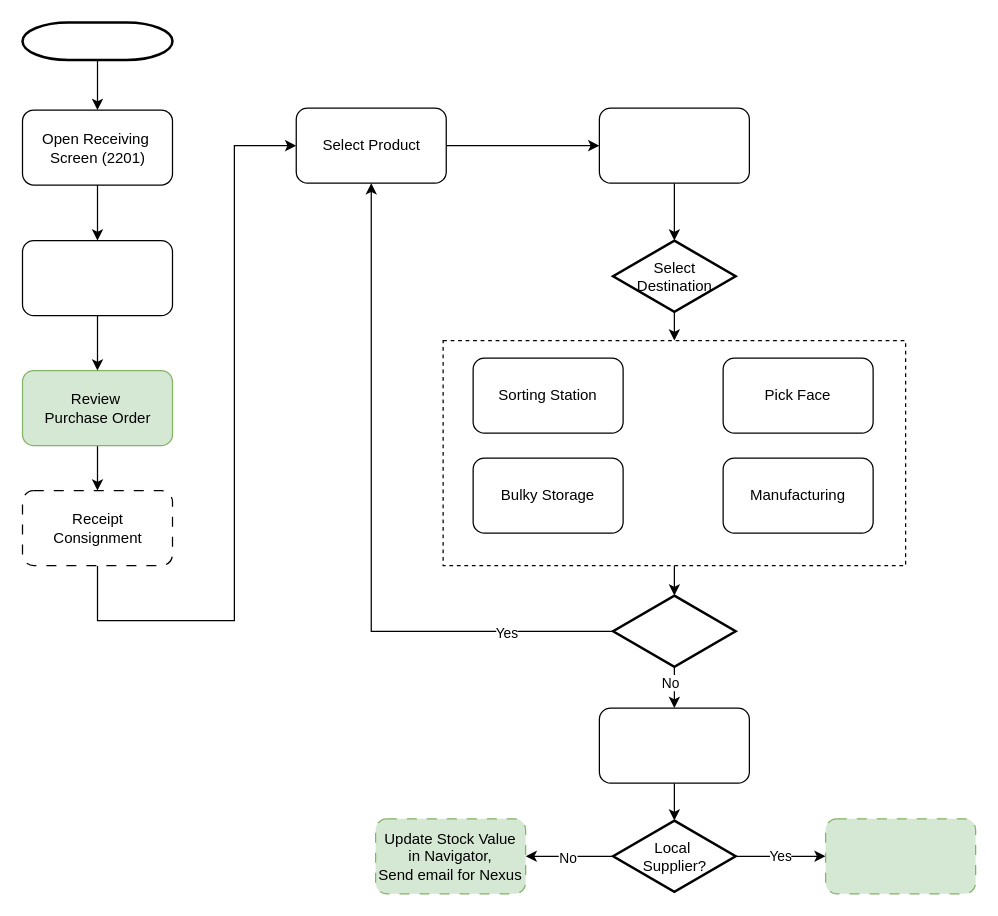
The diagram is 998 pixels wide and 916 high, and some of its shapes have lost their labels. The box of each missing label's shape, as (x1, y1, x2, y2) in pixels:
Finalise Receipt: (598, 707, 749, 783)
More Products?: (611, 594, 736, 668)
Review Product Details: (598, 107, 749, 183)
Select/Create Receipt: (21, 239, 172, 316)
start: (21, 21, 173, 61)
Update Stock Value in Navigator, Receive PO in Nexus: (824, 818, 976, 894)
